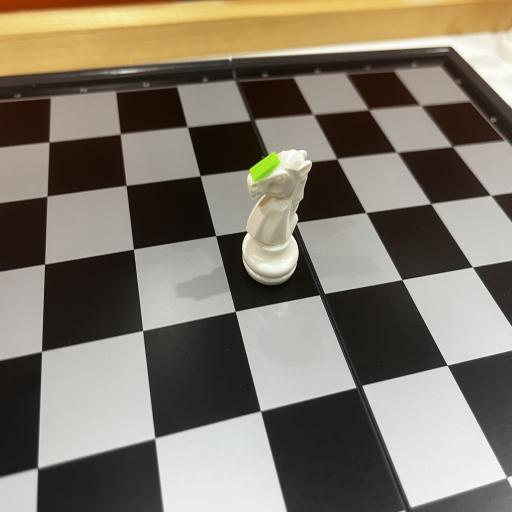White knight: (242, 149, 312, 285)
